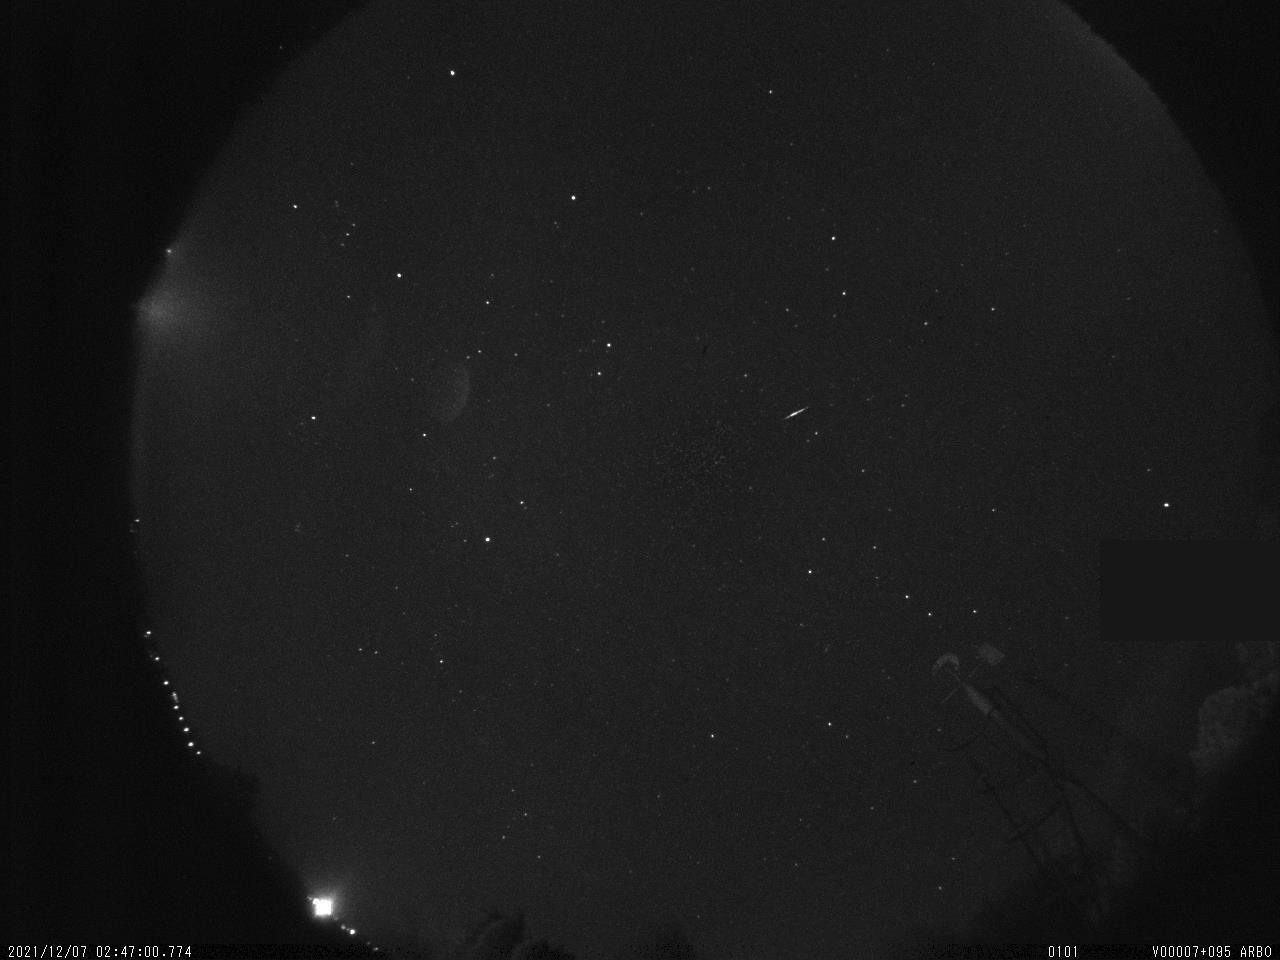meteor: (781, 398, 820, 433)
